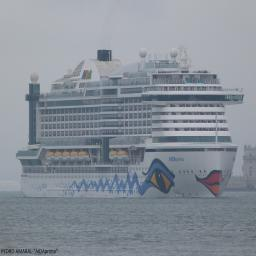cruises: (15, 48, 247, 203)
